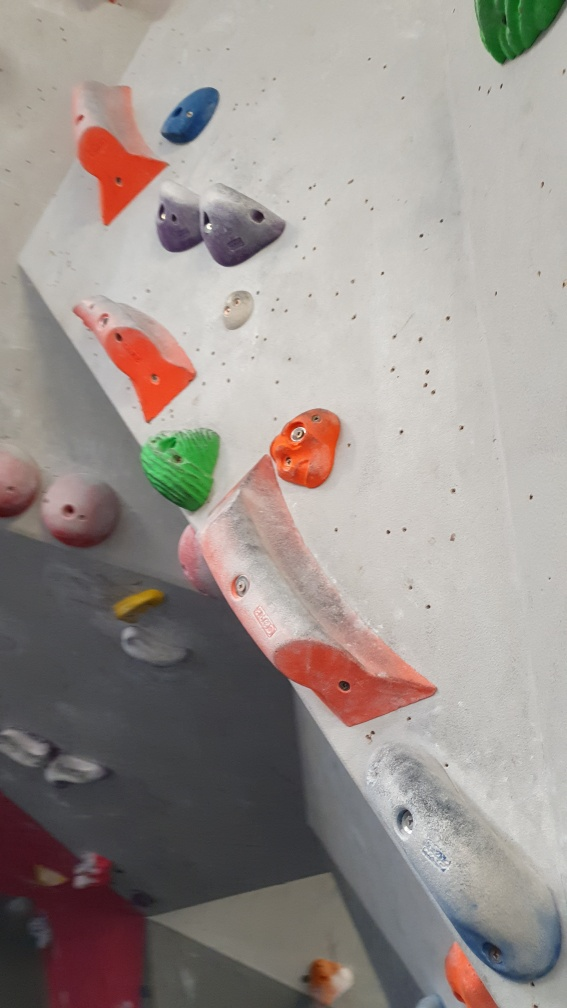Crimp: (164, 86, 228, 145)
Jug: (138, 422, 221, 515), (198, 185, 287, 267), (149, 178, 206, 262)
Pinch: (195, 460, 443, 729), (362, 729, 562, 986), (69, 293, 198, 424), (69, 76, 169, 229)
Sloper: (42, 467, 122, 550), (1, 441, 44, 521)
